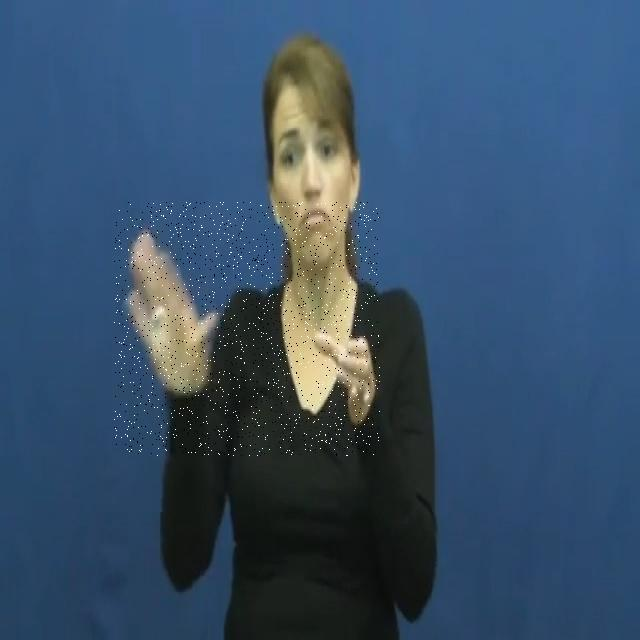straw: (114, 202, 380, 456)
